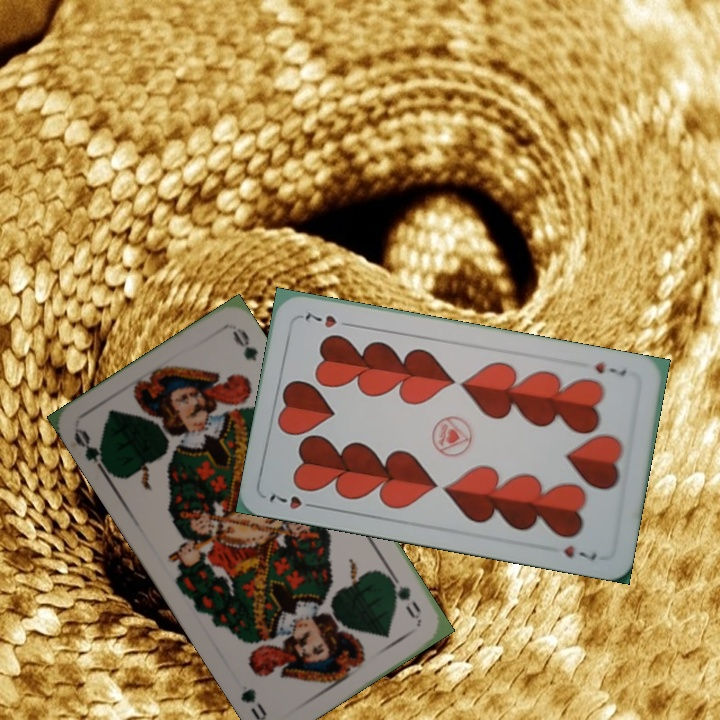GO: (70, 425, 114, 479), (382, 569, 424, 622)
H7: (265, 490, 322, 512), (591, 358, 629, 380)
